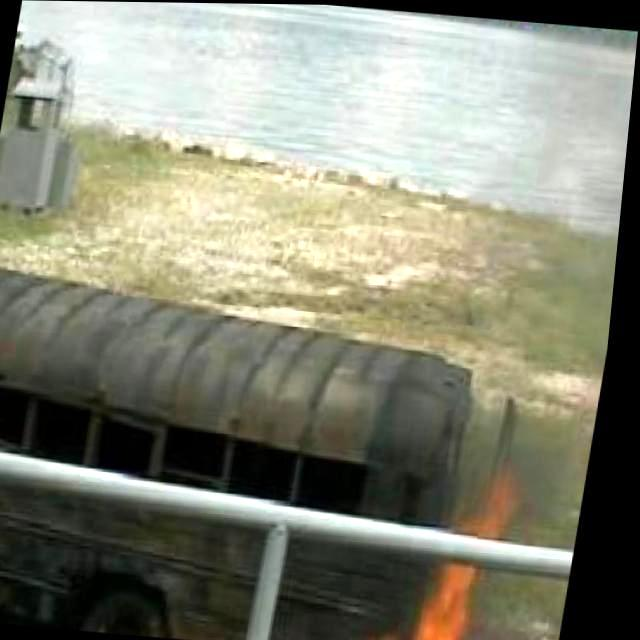fire: (366, 483, 526, 640)
